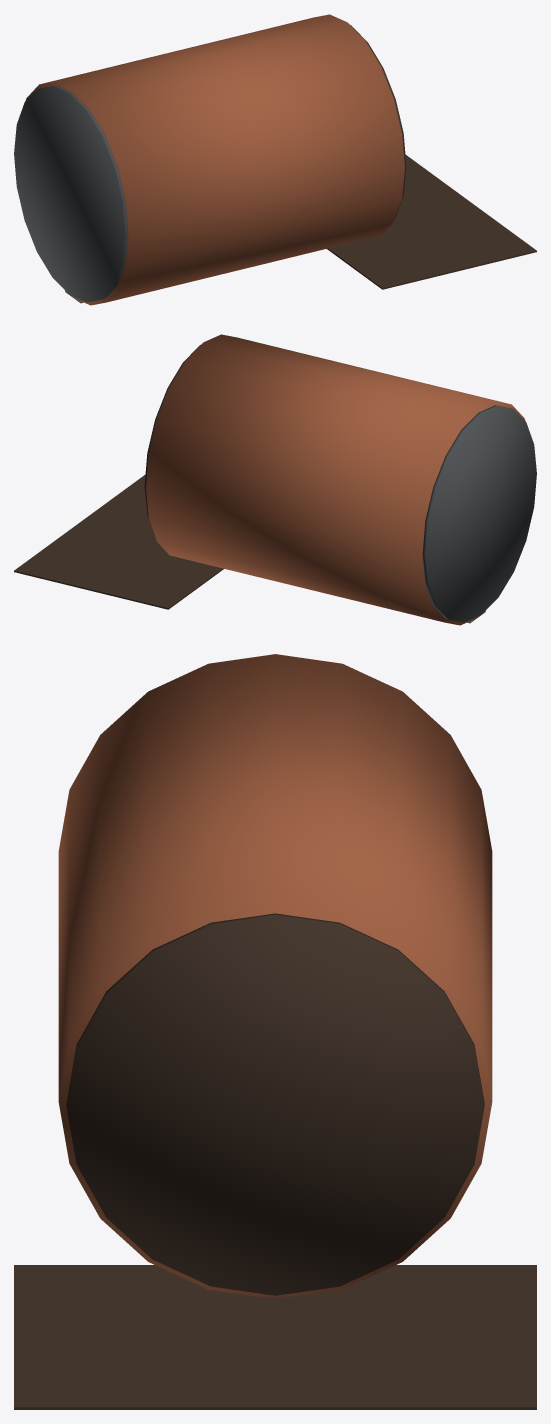
Rendered from drum_spilled.glb.
3 views of the same model, one above another, from view 1: azimuth 30°, elevation 25°; view 2: azimuth 150°, elevation 25°; view 3: azimuth 270°, elevation 25° (orthographic). The views are drawn at different scales.
Visible parts, largest first — view 1: drum_spilled; view 2: drum_spilled; view 3: drum_spilled.
Boxes of the visible parts, x1,y1,x2,y2 form: drum_spilled: (14,14,536,305); drum_spilled: (14,334,536,625); drum_spilled: (14,654,536,1409).
Size of the model in its own units: 1.16 by 0.58 by 0.7.
